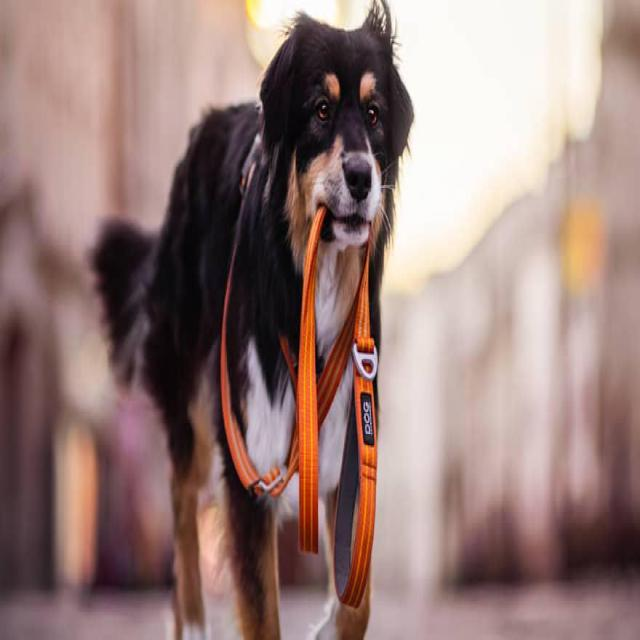Dog: (242, 0, 437, 325)
